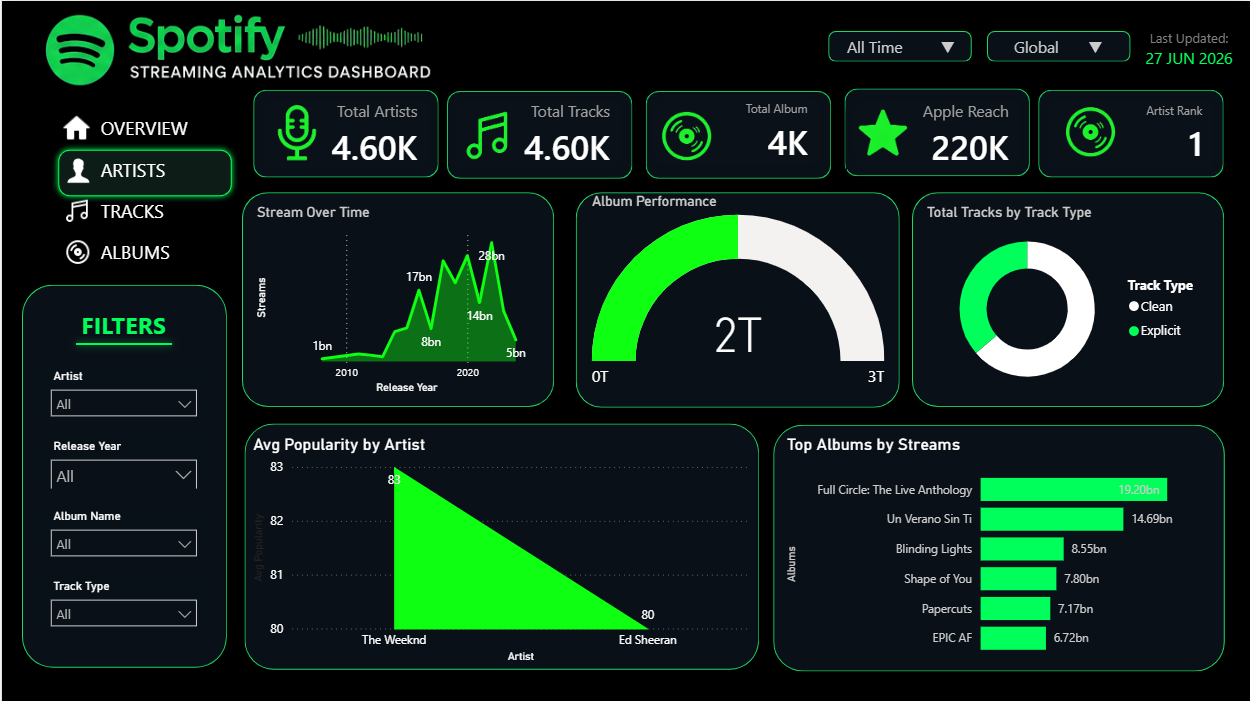

Layout of this report page (visuals, bound fields, positions):
{"tool":"powerbi","page":{"name":"Artist","canvas":[1280,720],"ordinal":1},"visuals":[{"type":"shape","box":[1010.2,30.8,147.1,31.4],"z":0,"group":"g2"},{"type":"shape","box":[248.8,432.5,527.5,252.5],"z":0},{"type":"textbox","box":[1010.2,30.8,145.7,31.4],"z":1000,"group":"g2"},{"type":"shape","box":[790,434.3,462.9,252.9],"z":1000},{"type":"group","id":"g1","title":"Group 1","box":[847.3,30.8,147.1,31.4],"z":2000,"group":"g2"},{"type":"shape","box":[659.7,92.3,190,90],"z":2000},{"type":"shape","box":[455.7,91.7,190,90],"z":3000},{"type":"shape","box":[863.7,89.9,190,90],"z":4000},{"type":"shape","box":[257,91.3,190,90],"z":5000},{"type":"cardVisual","fields":{"Data":["Most Streamed Spotify Songs 2024.Total Album"]},"box":[859.7,101.5,12.2,78.3],"z":6000},{"type":"shape","box":[20,291.2,210,392.5],"z":7000},{"type":"cardVisual","fields":{"Data":["CountNonNull(Most Streamed Spotify Songs 2024.Artist)"]},"box":[262.3,95.6,180,80],"z":8000},{"type":"cardVisual","fields":{"Data":["Most Streamed Spotify Songs 2024.Avg Popularity"]},"box":[869.3,95.6,180,80],"z":9000},{"type":"image","box":[832.4,88.5,136.7,90],"z":10000},{"type":"cardVisual","fields":{"Data":["CountNonNull(Most Streamed Spotify Songs 2024.Track)"]},"box":[460.4,96.5,180,80],"z":11000},{"type":"image","box":[238.4,92.8,135,90],"z":12000},{"type":"image","box":[432.6,89.9,136.7,90],"z":13000},{"type":"image","box":[15,5,511.7,85],"z":14000},{"type":"shape","box":[245.7,196.7,320,220],"z":15000},{"type":"lineChart","title":"Stream Over Time","fields":{"Category":["Most Streamed Spotify Songs 2024.Release Year"],"Y":["Sum(Most Streamed Spotify Songs 2024.Spotify Streams)"]},"box":[255.7,207.1,300,200],"z":16000},{"type":"shape","box":[588.7,196.2,332.1,220.9],"z":17000},{"type":"gauge","title":"Album Performance","fields":{"Y":["Most Streamed Spotify Songs 2024.Total Streams"]},"box":[599.7,196.2,310.1,211.3],"z":18000},{"type":"shape","box":[932.9,196.7,320,220],"z":19000},{"type":"donutChart","fields":{"Y":["Most Streamed Spotify Songs 2024.Total Tracks"],"Category":["Most Streamed Spotify Songs 2024.Track Type"]},"box":[942.9,207.1,300,200],"z":20000},{"type":"textbox","box":[19.1,311.9,211.4,44.3],"z":21000},{"type":"slicer","fields":{"Values":["Most Streamed Spotify Songs 2024.Release Year"]},"box":[39.9,444.9,170,55],"z":22000},{"type":"slicer","fields":{"Values":["Most Streamed Spotify Songs 2024.Album Name"]},"box":[39.9,516.7,170,55],"z":23000},{"type":"slicer","fields":{"Values":["Most Streamed Spotify Songs 2024.Track Type"]},"box":[39.9,588.5,170,55],"z":24000},{"type":"lineChart","fields":{"Y":["Most Streamed Spotify Songs 2024.Avg Popularity"],"Category":["Most Streamed Spotify Songs 2024.Artist"]},"box":[252.9,444.3,518.6,238.6],"z":25000},{"type":"slicer","fields":{"Values":["Most Streamed Spotify Songs 2024.Artist"]},"box":[39.9,373,170,55],"z":26000},{"type":"group","id":"g2","title":"Group 2","box":[847.3,30.8,310,31.4],"z":27000},{"type":"textbox","box":[1152.9,24.3,127.1,58.6],"z":28000},{"type":"shape","box":[50.8,145.5,190.7,60.4],"z":29000},{"type":"textbox","box":[95.7,112.9,120,187.1],"z":30000},{"type":"image","box":[51.4,115.7,50,30],"z":31000},{"type":"shape","box":[847.3,30.8,147.1,31.4],"z":32000,"group":"g1"},{"type":"image","box":[52.1,158.6,50,30],"z":32000},{"type":"textbox","box":[848.7,30.8,145.7,31.4],"z":33000,"group":"g1"},{"type":"image","box":[52.1,200.1,50,30],"z":33000},{"type":"image","box":[52.1,241.5,50,30],"z":34000},{"type":"shape","box":[67.8,337.8,114.4,26.7],"z":35000},{"type":"barChart","title":"Top Albums by Streams","fields":{"Y":["Sum(Most Streamed Spotify Songs 2024.Spotify Streams)"],"Category":["Most Streamed Spotify Songs 2024.Album Name"]},"box":[800,444.3,442.9,238.6],"z":36000},{"type":"cardVisual","fields":{"Data":["Most Streamed Spotify Songs 2024.Total Album"]},"box":[663.9,95.1,179.8,79.6],"z":37000},{"type":"image","box":[635,92.3,134.5,89.2],"z":38000},{"type":"shape","box":[40,101.1,190,60],"z":39000},{"type":"shape","box":[1061.8,90.4,190,90],"z":40000},{"type":"cardVisual","fields":{"Data":["Most Streamed Spotify Songs 2024.Artist Rank"]},"box":[1067.4,96.1,180,80],"z":41000},{"type":"image","box":[1049.7,87.2,134.5,90.2],"z":42000},{"type":"shape","box":[41.4,230.6,189.2,60.6],"z":43000},{"type":"shape","box":[50.3,199.6,189.2,29.6],"z":43001}]}

Visuals, with their boxes in screenshot pixels (x1, y1, x2, y2), scaled from the page's 1280x720 canvas onto the 1250x701 screenshot:
shape: [left=987, top=30, right=1130, bottom=61]
shape: [left=243, top=421, right=758, bottom=667]
textbox: [left=987, top=30, right=1129, bottom=61]
shape: [left=771, top=423, right=1224, bottom=669]
"Group 1" group: [left=827, top=30, right=971, bottom=61]
shape: [left=644, top=90, right=830, bottom=177]
shape: [left=445, top=89, right=631, bottom=177]
shape: [left=843, top=88, right=1029, bottom=175]
shape: [left=251, top=89, right=437, bottom=177]
cardVisual - Most Streamed Spotify Songs 2024.Total Album: [left=840, top=99, right=851, bottom=175]
shape: [left=20, top=284, right=225, bottom=666]
cardVisual - CountNonNull(Most Streamed Spotify Songs 2024.Artist): [left=256, top=93, right=432, bottom=171]
cardVisual - Most Streamed Spotify Songs 2024.Avg Popularity: [left=849, top=93, right=1025, bottom=171]
image: [left=813, top=86, right=946, bottom=174]
cardVisual - CountNonNull(Most Streamed Spotify Songs 2024.Track): [left=450, top=94, right=625, bottom=172]
image: [left=233, top=90, right=365, bottom=178]
image: [left=422, top=88, right=556, bottom=175]
image: [left=15, top=5, right=514, bottom=88]
shape: [left=240, top=192, right=552, bottom=406]
"Stream Over Time" lineChart: [left=250, top=202, right=543, bottom=396]
shape: [left=575, top=191, right=899, bottom=406]
"Album Performance" gauge: [left=586, top=191, right=888, bottom=397]
shape: [left=911, top=192, right=1224, bottom=406]
donutChart - Most Streamed Spotify Songs 2024.Total Tracks x Most Streamed Spotify Songs 2024.Track Type: [left=921, top=202, right=1214, bottom=396]
textbox: [left=19, top=304, right=225, bottom=347]
slicer - Most Streamed Spotify Songs 2024.Release Year: [left=39, top=433, right=205, bottom=487]
slicer - Most Streamed Spotify Songs 2024.Album Name: [left=39, top=503, right=205, bottom=557]
slicer - Most Streamed Spotify Songs 2024.Track Type: [left=39, top=573, right=205, bottom=627]
lineChart - Most Streamed Spotify Songs 2024.Avg Popularity x Most Streamed Spotify Songs 2024.Artist: [left=247, top=433, right=753, bottom=665]
slicer - Most Streamed Spotify Songs 2024.Artist: [left=39, top=363, right=205, bottom=417]
"Group 2" group: [left=827, top=30, right=1130, bottom=61]
textbox: [left=1126, top=24, right=1249, bottom=81]
shape: [left=50, top=142, right=236, bottom=200]
textbox: [left=93, top=110, right=211, bottom=292]
image: [left=50, top=113, right=99, bottom=142]
shape: [left=827, top=30, right=971, bottom=61]
image: [left=51, top=154, right=100, bottom=184]
textbox: [left=829, top=30, right=971, bottom=61]
image: [left=51, top=195, right=100, bottom=224]
image: [left=51, top=235, right=100, bottom=264]
shape: [left=66, top=329, right=178, bottom=355]
"Top Albums by Streams" barChart: [left=781, top=433, right=1214, bottom=665]
cardVisual - Most Streamed Spotify Songs 2024.Total Album: [left=648, top=93, right=824, bottom=170]
image: [left=620, top=90, right=751, bottom=177]
shape: [left=39, top=98, right=225, bottom=157]
shape: [left=1037, top=88, right=1222, bottom=176]
cardVisual - Most Streamed Spotify Songs 2024.Artist Rank: [left=1042, top=94, right=1218, bottom=171]
image: [left=1025, top=85, right=1156, bottom=173]
shape: [left=40, top=225, right=225, bottom=284]
shape: [left=49, top=194, right=234, bottom=223]
